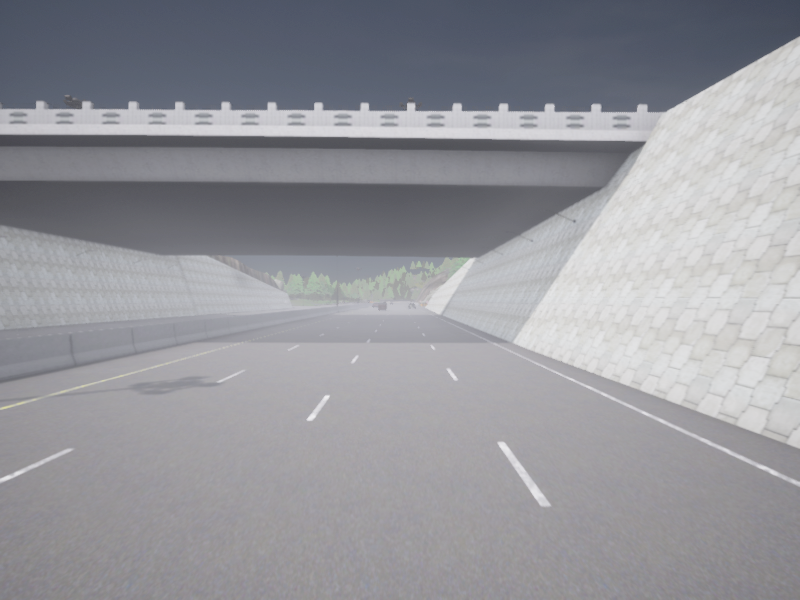vehicle: (379, 302, 386, 310), (408, 303, 415, 308), (373, 303, 378, 307), (390, 302, 393, 304)
